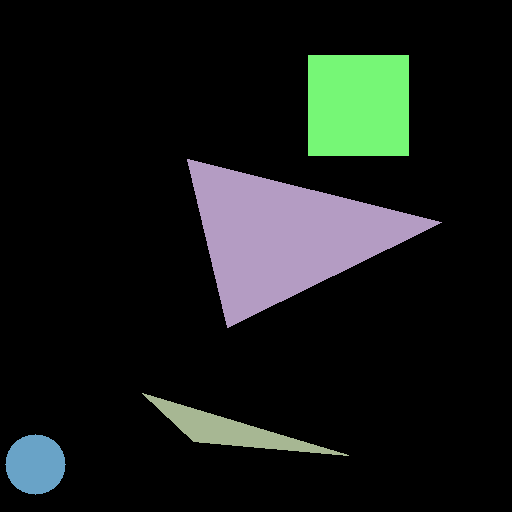circle: (5, 434, 65, 494)
square: (308, 55, 408, 155)
triangle: (187, 159, 441, 327), (142, 393, 348, 455)
